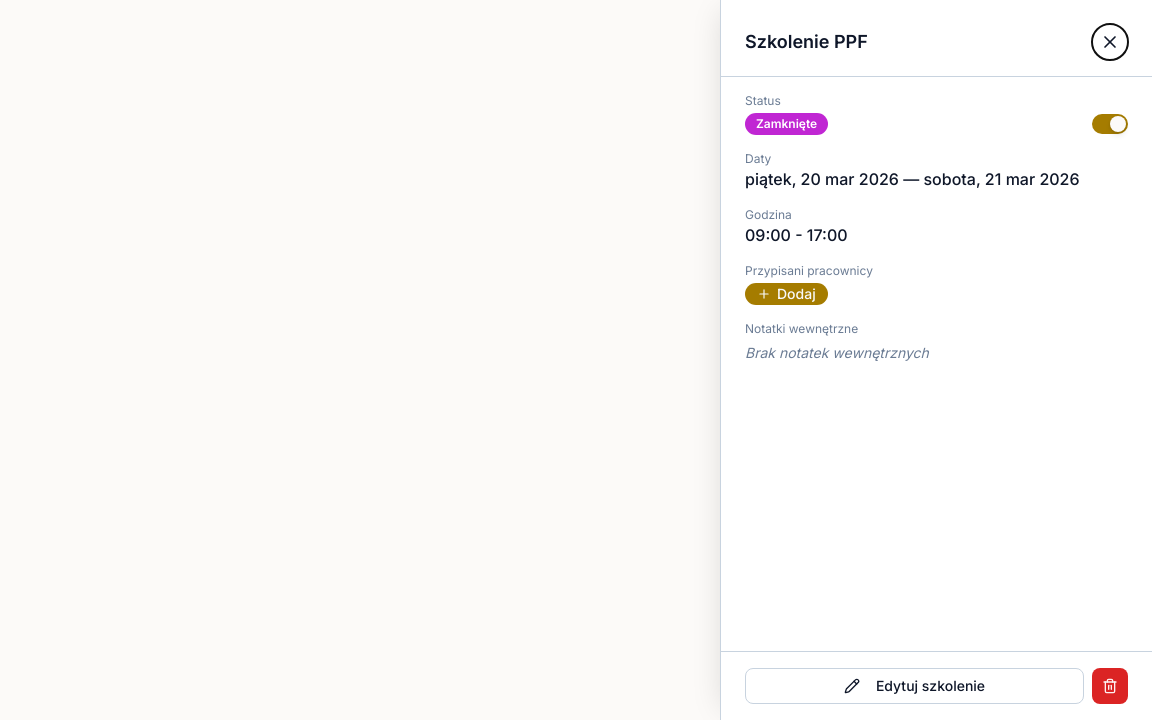
TrainingDetailsDrawer › status toggle › updates Switch visually after toggling from sold_out to open
The image size is (1152, 720).
Click the switch. click: x=1110, y=124
box: [1092, 114, 1128, 134]
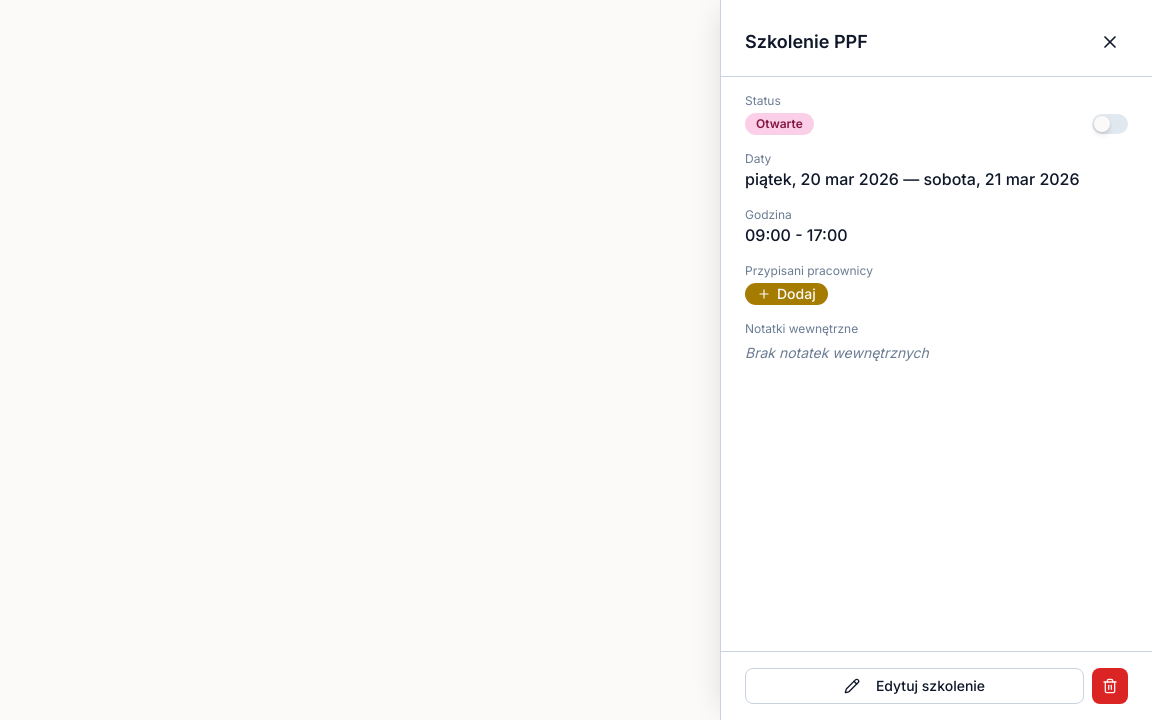
Check: the switch is not checked, box [1092, 114, 1128, 134]
